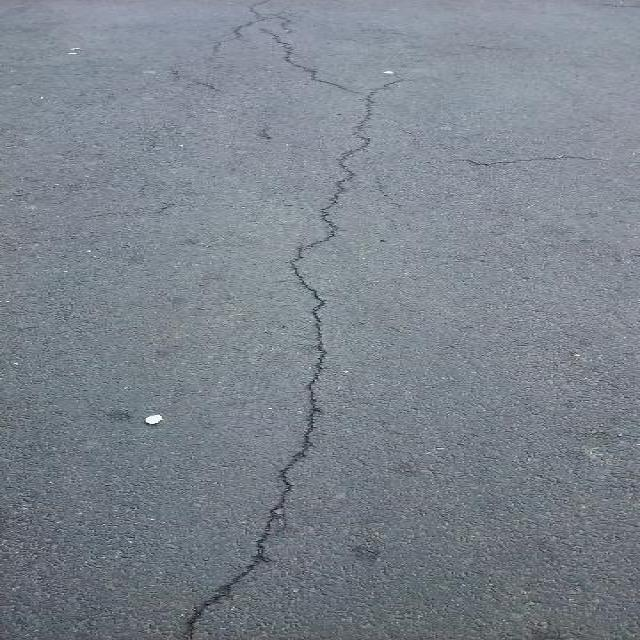moderate crack: (320, 78, 384, 235), (294, 180, 346, 298), (582, 428, 618, 453), (347, 539, 382, 561), (266, 506, 286, 533), (184, 76, 217, 92), (180, 234, 211, 247), (256, 124, 272, 140), (28, 94, 49, 106), (377, 237, 387, 242)
severe crack: (359, 244, 639, 640), (1, 401, 233, 637), (396, 7, 637, 168), (407, 140, 630, 292), (180, 532, 282, 636), (13, 190, 196, 232), (16, 388, 160, 430), (208, 0, 287, 57), (300, 280, 329, 375), (444, 152, 604, 168), (294, 67, 377, 94), (179, 605, 206, 640), (250, 552, 275, 565), (280, 22, 293, 34)
